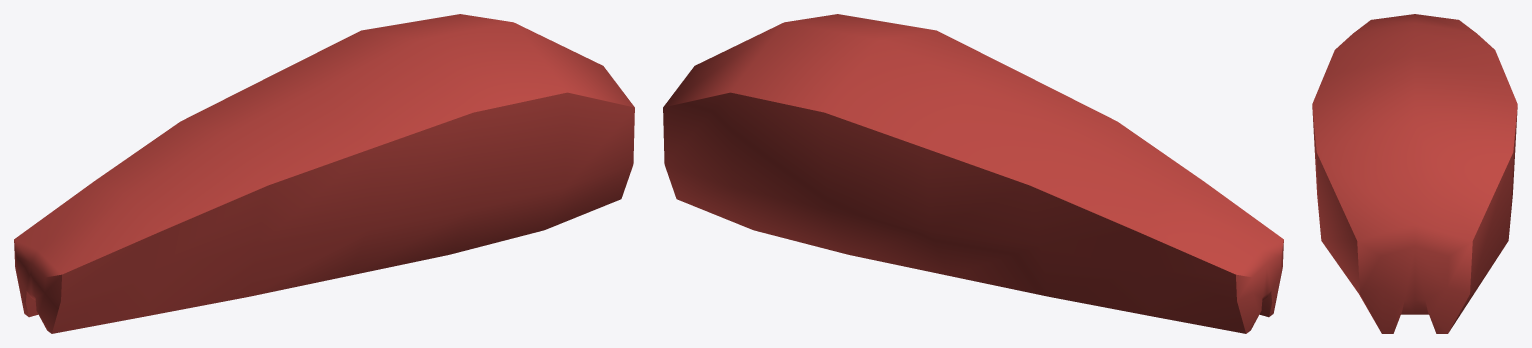
The picture shows the model from 3 angles, left to right: view 1: azimuth 30°, elevation 25°; view 2: azimuth 150°, elevation 25°; view 3: azimuth 270°, elevation 25°; orthographic projection. The views are drawn at different scales.
Parts seen in each view (by area): view 1: gt_lod2; view 2: gt_lod2; view 3: gt_lod2.
Boxes of the visible parts, x1,y1,x2,y2 form: gt_lod2: [14, 14, 634, 333]; gt_lod2: [663, 14, 1283, 333]; gt_lod2: [1312, 14, 1517, 333].
Bounding box in the file's own units: 1 × 0.3147 × 0.3354.
